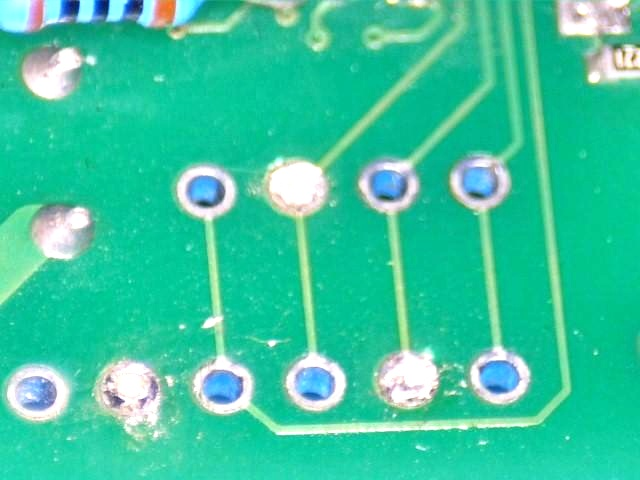pcb_defect: (378, 351, 438, 408), (270, 162, 329, 212), (101, 362, 160, 412)
